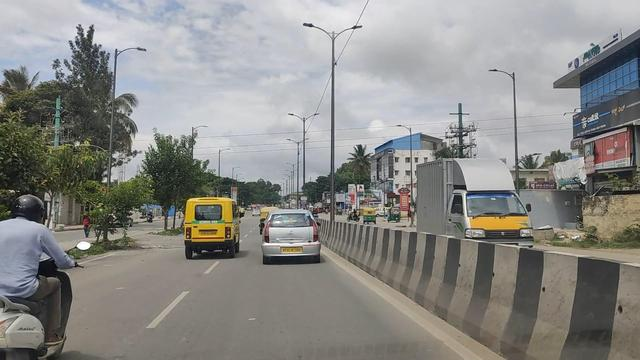LMV: (0, 188, 94, 360), (176, 197, 247, 261), (251, 206, 322, 269)
